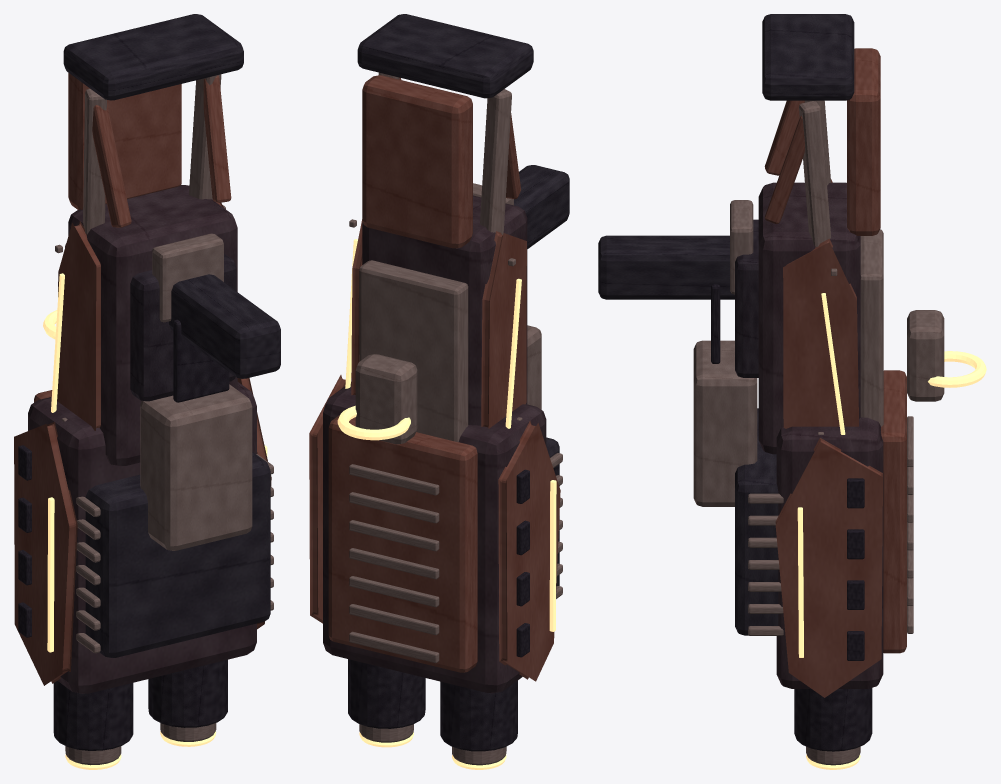
Rendered from aether-w12-eclipse.glb.
The picture shows the model from 3 angles, left to right: view 1: azimuth 30°, elevation 25°; view 2: azimuth 150°, elevation 25°; view 3: azimuth 270°, elevation 25°; orthographic projection. The views are drawn at different scales.
Parts seen in each view (by area): view 1: W12 / broad rugged pump sleeve, W12 / underbody plasma unit, 01 / central monocoque, W12 / heavy armor shroud, W12 / aggressive twin cheek armor -1, W12 / thick recoil pad art, W12 / rear shoulder crown, 04 / pistol grip, 06 / sculpted receiver cheek-1, 03 / matte lower receiver, W12 / twin front port -1, W12 / twin front port 1 (+10 smaller); view 2: W12 / heatshield upper armor, W12 / rear shoulder crown, 02 / receiver crown, W12 / heavy armor shroud, W12 / aggressive twin cheek armor -1, W12 / thick recoil pad art, 01 / central monocoque, 06 / sculpted receiver cheek-1, W12 / twin front port -1, W12 / chunky sight, W12 / twin front port 1, W12 / stock side truss -1 (+18 smaller); view 3: W12 / aggressive twin cheek armor 1, 06 / sculpted receiver cheek1, 01 / central monocoque, W12 / underbody plasma unit, 04 / pistol grip, W12 / thick recoil pad art, W12 / heatshield upper armor, W12 / heavy armor shroud, W12 / rear shoulder crown, W12 / broad rugged pump sleeve, W12 / twin front port 1, 02 / receiver crown (+11 smaller).
Part boxes in pixels (box(x1,y1,x2,y2)): W12 / broad rugged pump sleeve: box(85, 452, 270, 657); W12 / underbody plasma unit: box(140, 384, 252, 550); 01 / central monocoque: box(68, 185, 237, 466); W12 / heavy armor shroud: box(28, 382, 256, 693); W12 / aggressive twin cheek armor -1: box(14, 422, 77, 685); W12 / thick recoil pad art: box(63, 14, 243, 100); W12 / rear shoulder crown: box(68, 73, 181, 209); 04 / pistol grip: box(169, 274, 280, 378); 06 / sculpted receiver cheek-1: box(57, 221, 100, 430); 03 / matte lower receiver: box(130, 254, 236, 401); W12 / twin front port -1: box(53, 681, 133, 750); W12 / twin front port 1: box(148, 659, 227, 727); W12 / heatshield upper armor: box(328, 415, 477, 672); W12 / rear shoulder crown: box(362, 75, 472, 248); 02 / receiver crown: box(359, 260, 468, 441); W12 / heavy armor shroud: box(323, 382, 546, 693); W12 / aggressive twin cheek armor -1: box(498, 420, 560, 681); W12 / thick recoil pad art: box(357, 14, 533, 98); 01 / central monocoque: box(362, 195, 527, 425); 06 / sculpted receiver cheek-1: box(481, 231, 526, 428); W12 / twin front port -1: box(440, 680, 517, 751); W12 / chunky sight: box(355, 354, 417, 444); W12 / twin front port 1: box(348, 659, 425, 728); W12 / stock side truss -1: box(480, 89, 511, 234); W12 / aggressive twin cheek armor 1: box(775, 438, 882, 697); 06 / sculpted receiver cheek1: box(783, 238, 858, 428); 01 / central monocoque: box(758, 182, 860, 454); W12 / underbody plasma unit: box(693, 340, 757, 506); 04 / pistol grip: box(598, 235, 734, 299); W12 / thick recoil pad art: box(762, 14, 854, 100); W12 / heatshield upper armor: box(881, 370, 906, 653); W12 / heavy armor shroud: box(776, 417, 883, 688); W12 / rear shoulder crown: box(847, 48, 880, 235); W12 / broad rugged pump sleeve: box(735, 408, 778, 635); W12 / twin front port 1: box(794, 688, 872, 751); 02 / receiver crown: box(860, 229, 883, 426).
Size of the model in its own units: 0.652 by 2.04 by 1.04.
Materials: 7 (7 with a texture image).
